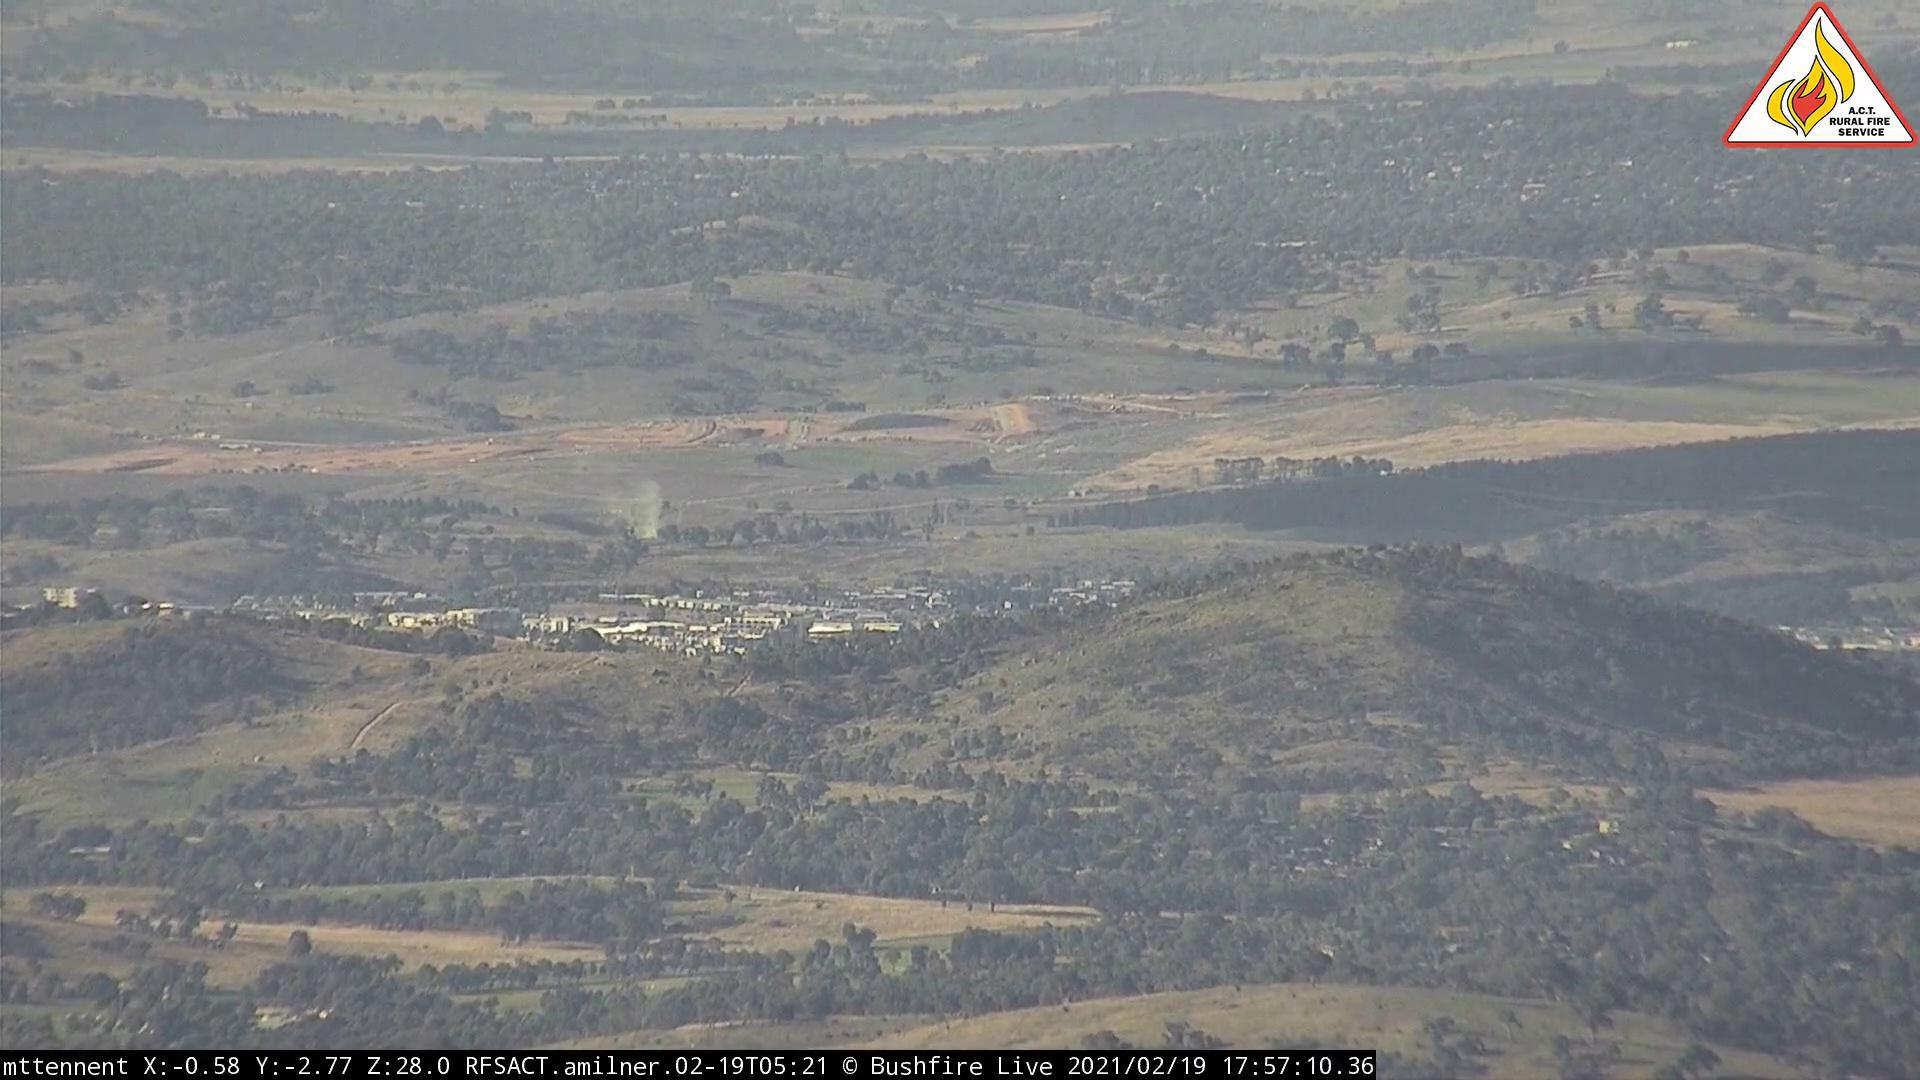instance_salient_object: (626, 487, 684, 553)
